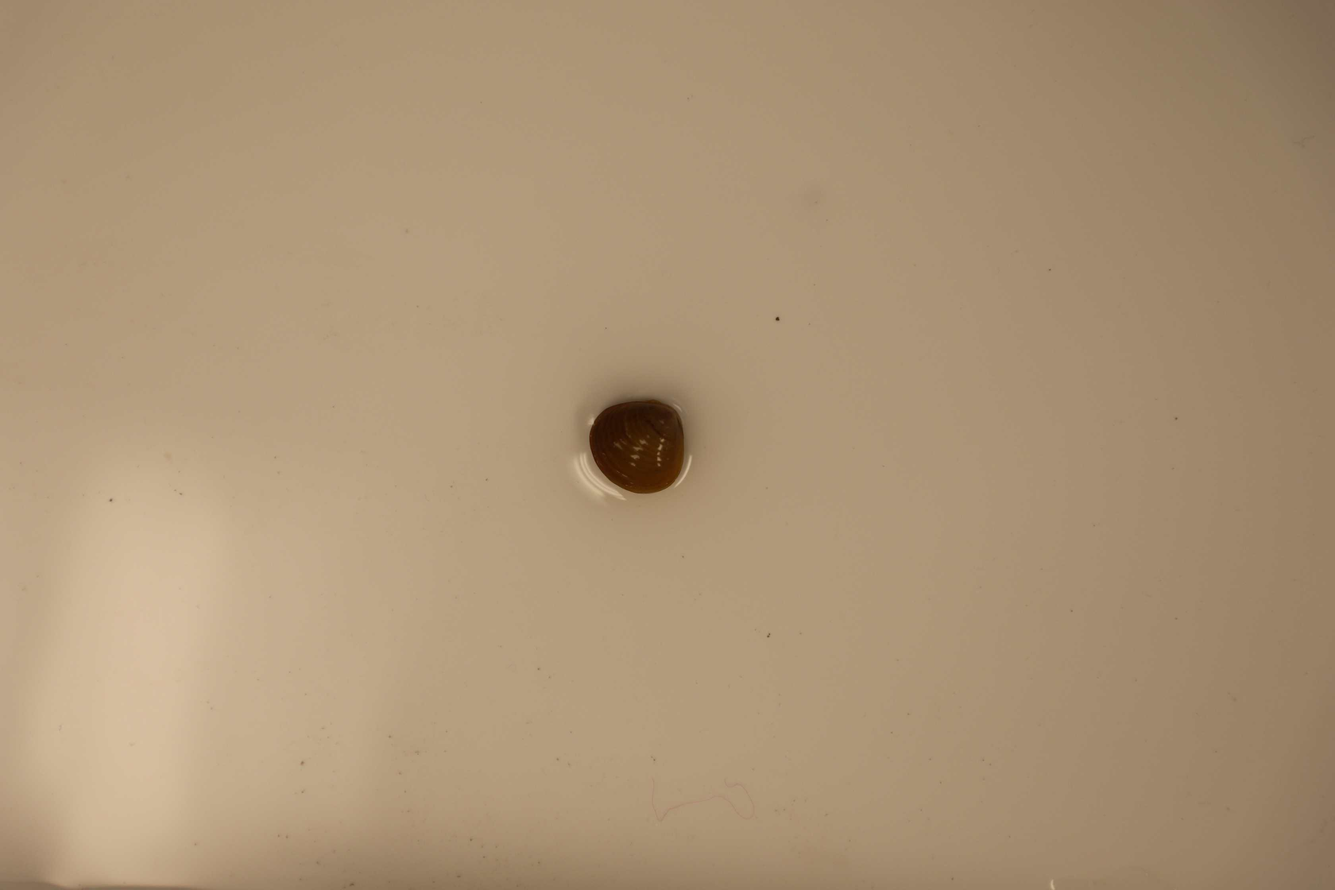Other: (566, 385, 697, 500)
